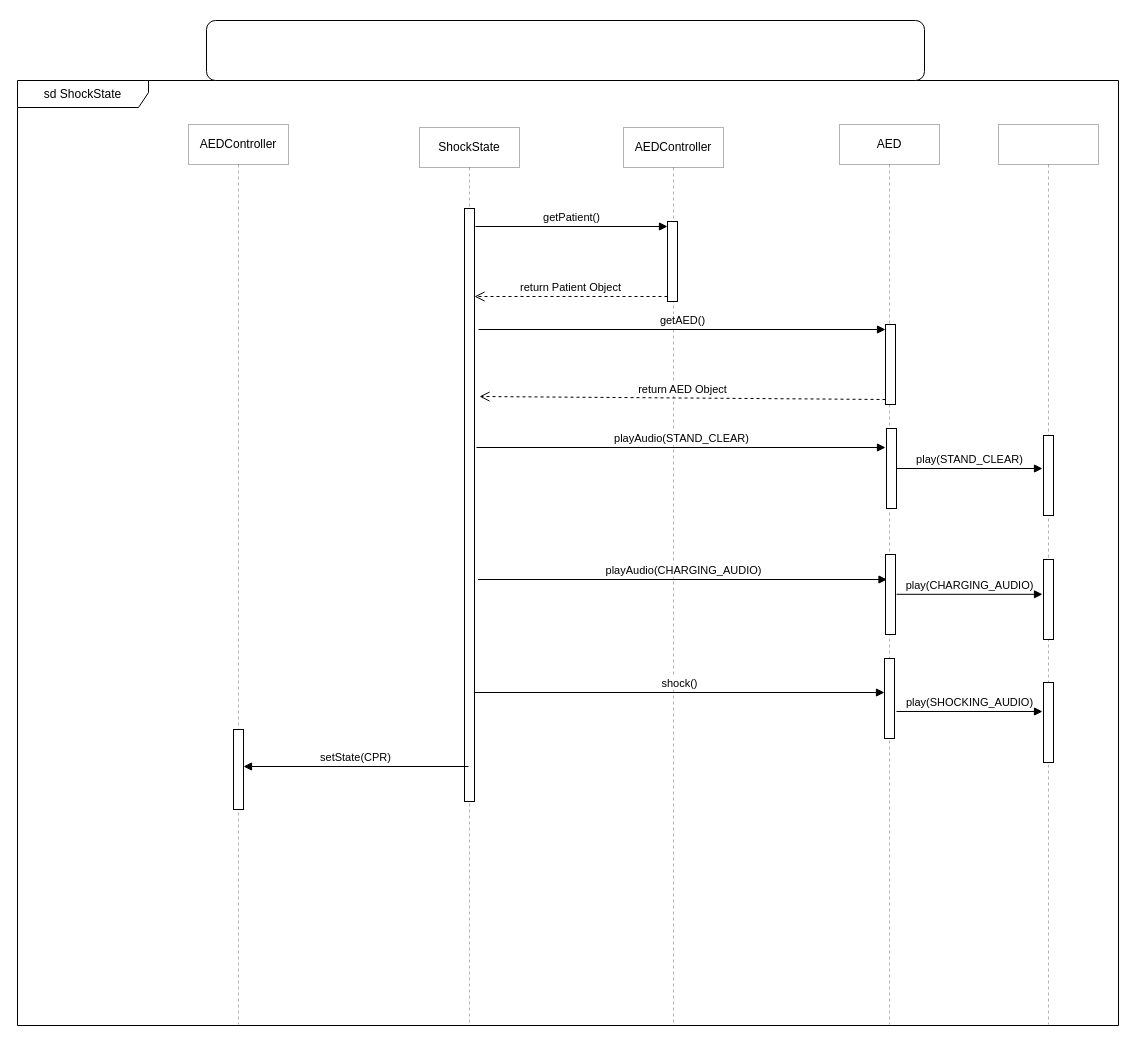
This 1136x1043 diagram has some shape labels left out. The shapes that lost their labels are listed below. From the top down, each one's centre as x and y in pixels, then its label:
At [565,50]: "Use Case 4: Shocks Part 2".
At [1048,574]: "MediaPlayer".
